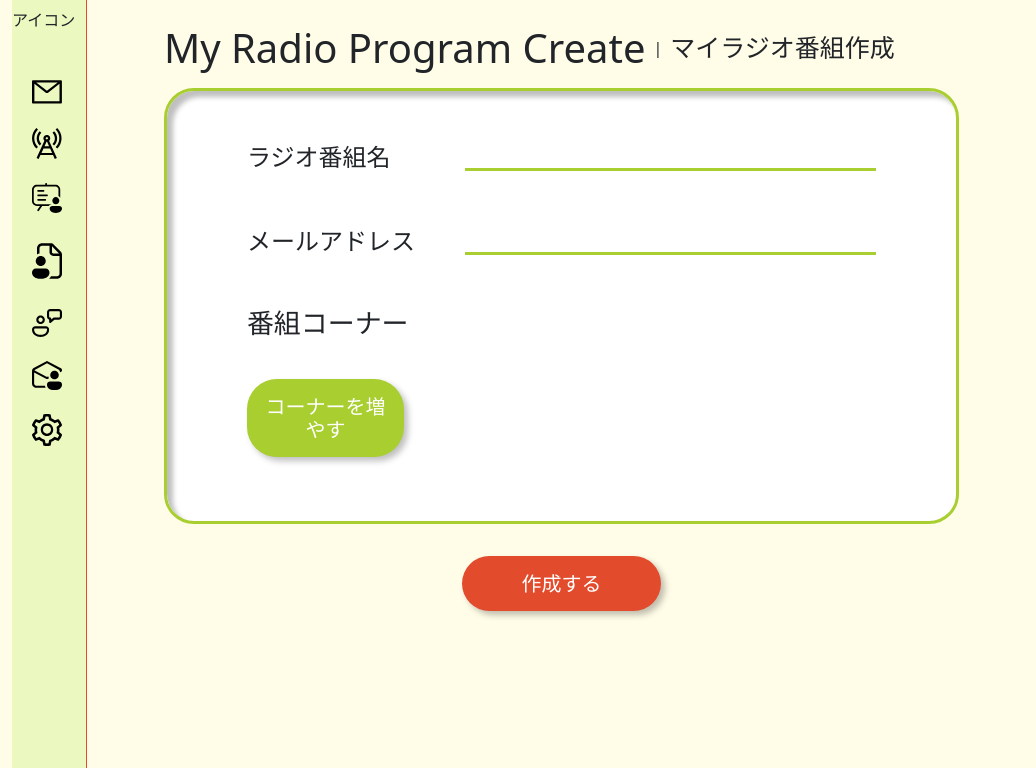
Test case: マイラジオ番組作成 › メールアドレスのフォーマットが異なっているとバリデーションメッセージが表示される
The image size is (1036, 768).
Type "マイラジオ番組1" into the field with test id "my-radio-program-input-name".
click(670, 157); type("マイラジオ番組1")  # box [465,143,876,171]
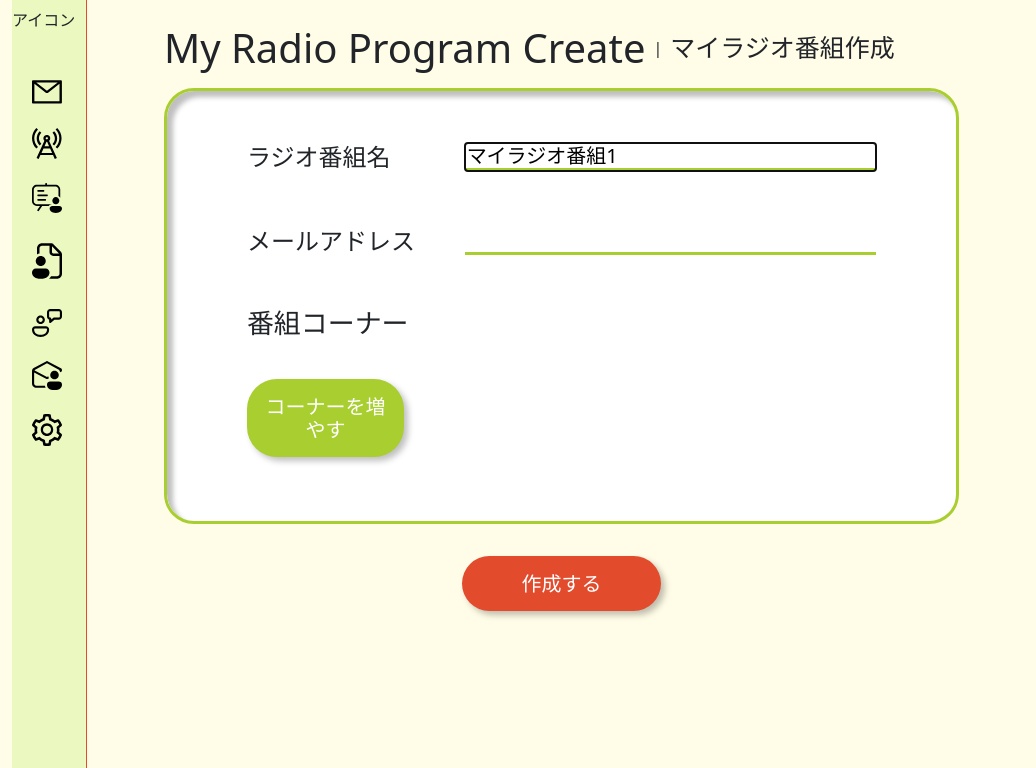
Type "test" into the field with test id "my-radio-program-input-email".
click(670, 241); type("test")  # box [465,227,876,255]
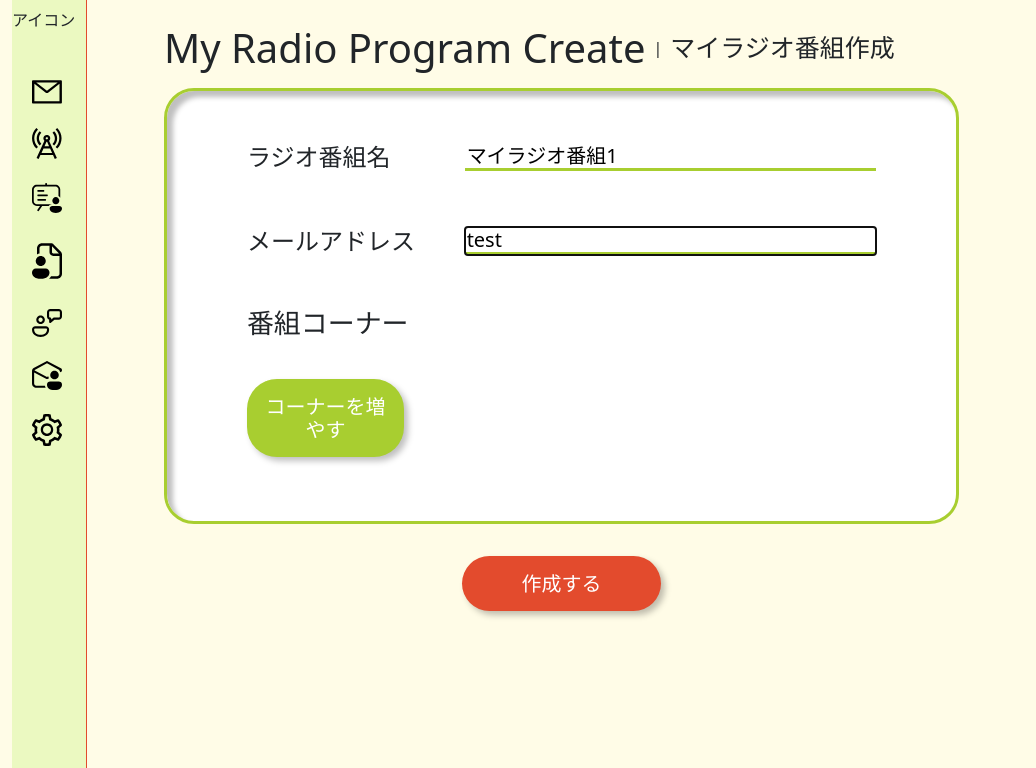
Click the button with test id "my-radio-program-button-create".
click(562, 584)  # box [462,556,661,611]
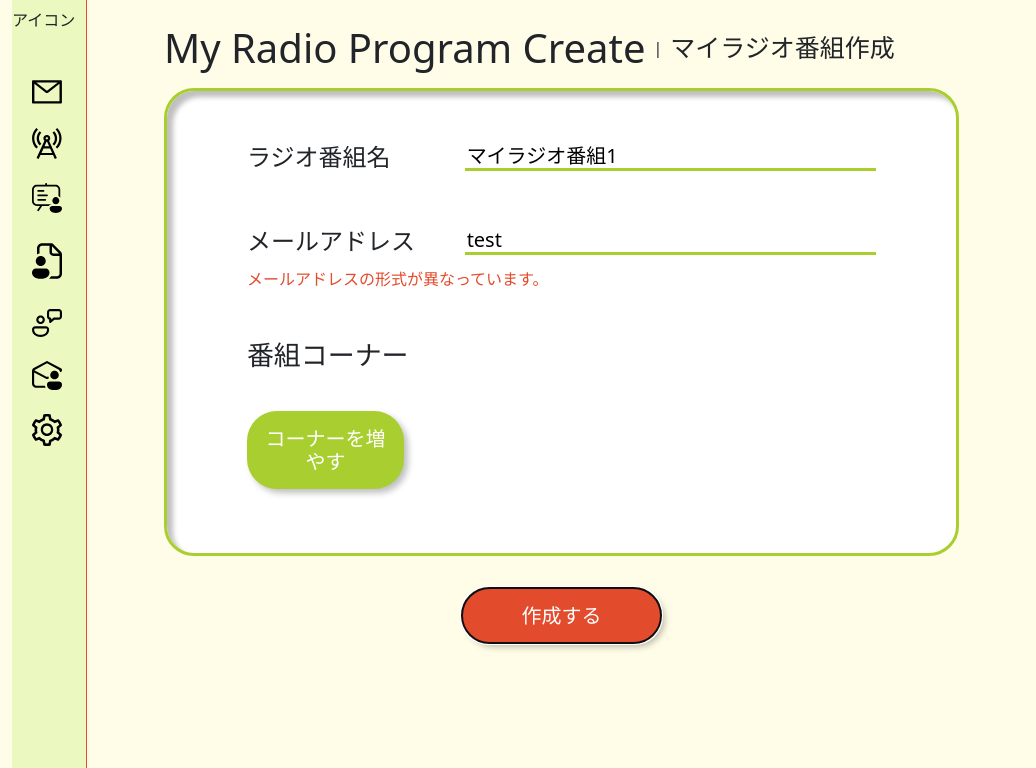
Expected: the text "メールアドレスの形式が異なっています。" is shown, [247,268,548,290]
